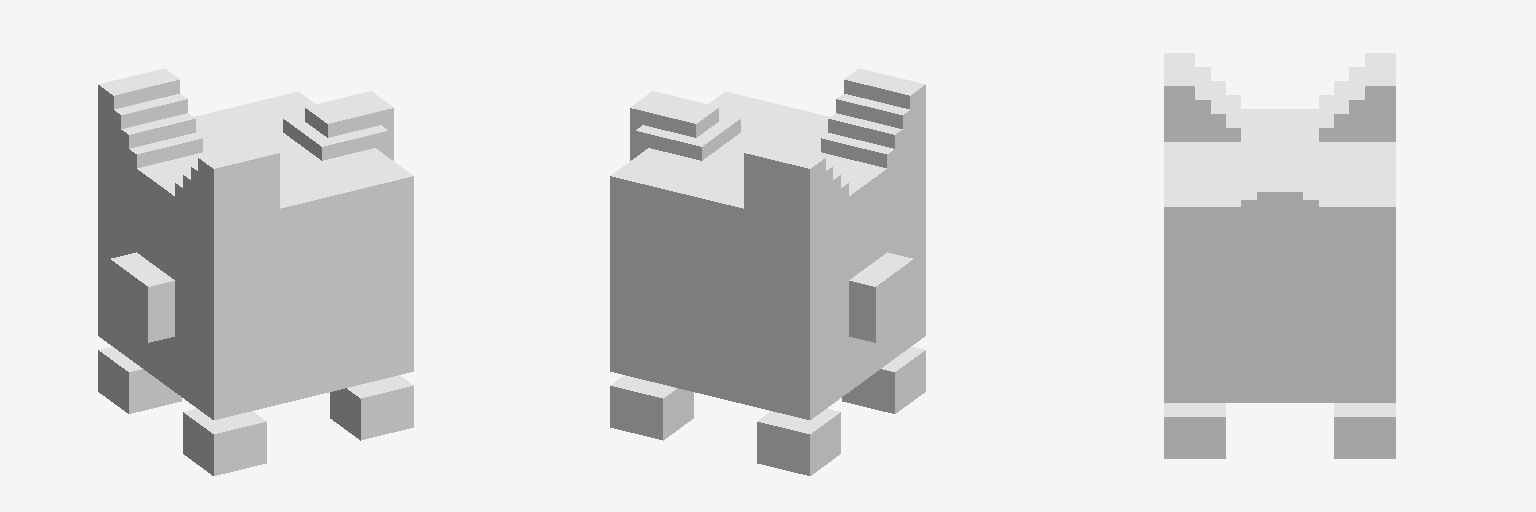
Rendered from wolf_sep.obj.
3 views of the same model, side by side, from view 1: azimuth 30°, elevation 25°; view 2: azimuth 150°, elevation 25°; view 3: azimuth 270°, elevation 25° (orthographic).
Visible parts, largest first — view 1: wolf_sep; view 2: wolf_sep; view 3: wolf_sep.
Boxes of the visible parts, x1=… form: wolf_sep: x1=98, y1=68, x2=413, y2=475; wolf_sep: x1=610, y1=68, x2=925, y2=475; wolf_sep: x1=1164, y1=53, x2=1395, y2=458.
Size of the model in its own units: 19 by 22 by 15.